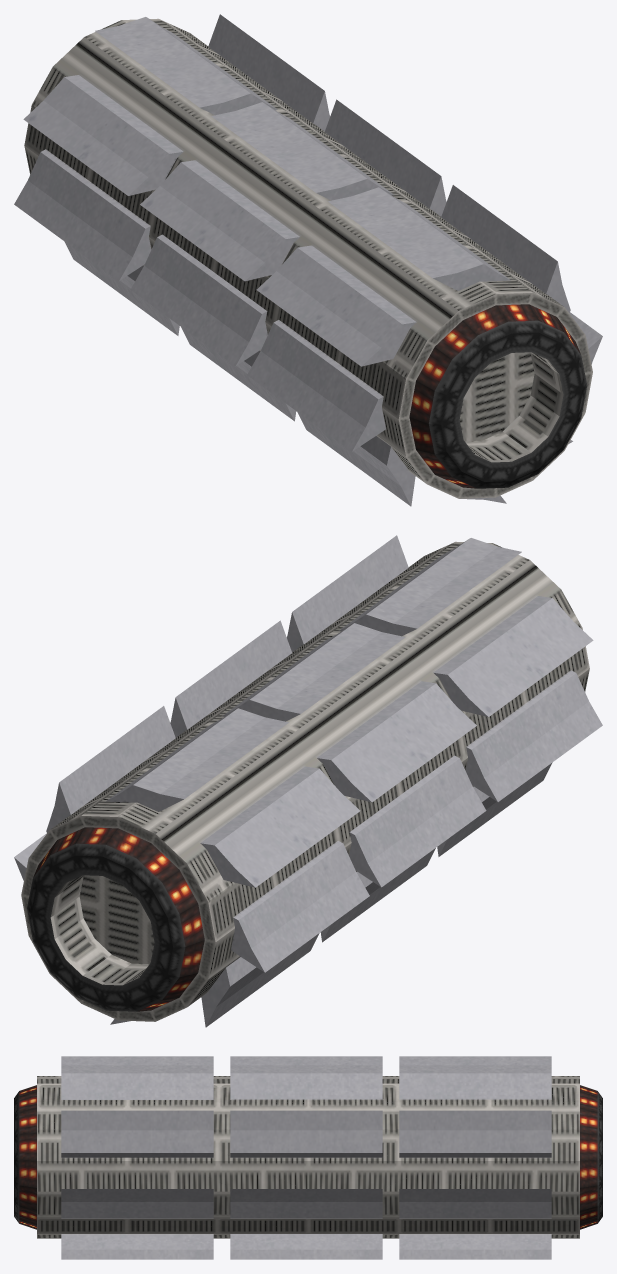
The model's file is grinder.fbx.
3 views of the same model, one above another, from view 1: azimuth 30°, elevation 25°; view 2: azimuth 150°, elevation 25°; view 3: azimuth 270°, elevation 25° (orthographic). The views are drawn at different scales.
Parts seen in each view (by area): view 1: grinder; view 2: grinder; view 3: grinder.
Boxes of the visible parts, x1,y1,x2,y2 form: grinder: (14,14,602,506); grinder: (14,535,602,1027); grinder: (14,1056,602,1259).
Size of the model in its own units: 445 by 416 by 1247.
Materials: 1 (1 with a texture image).
